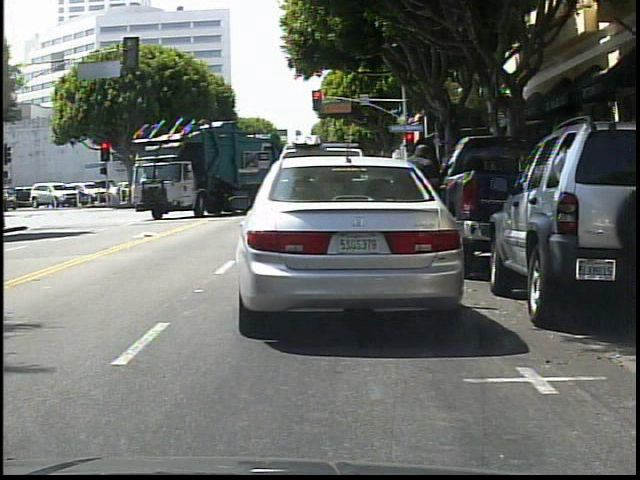person: (390, 141, 448, 270)
